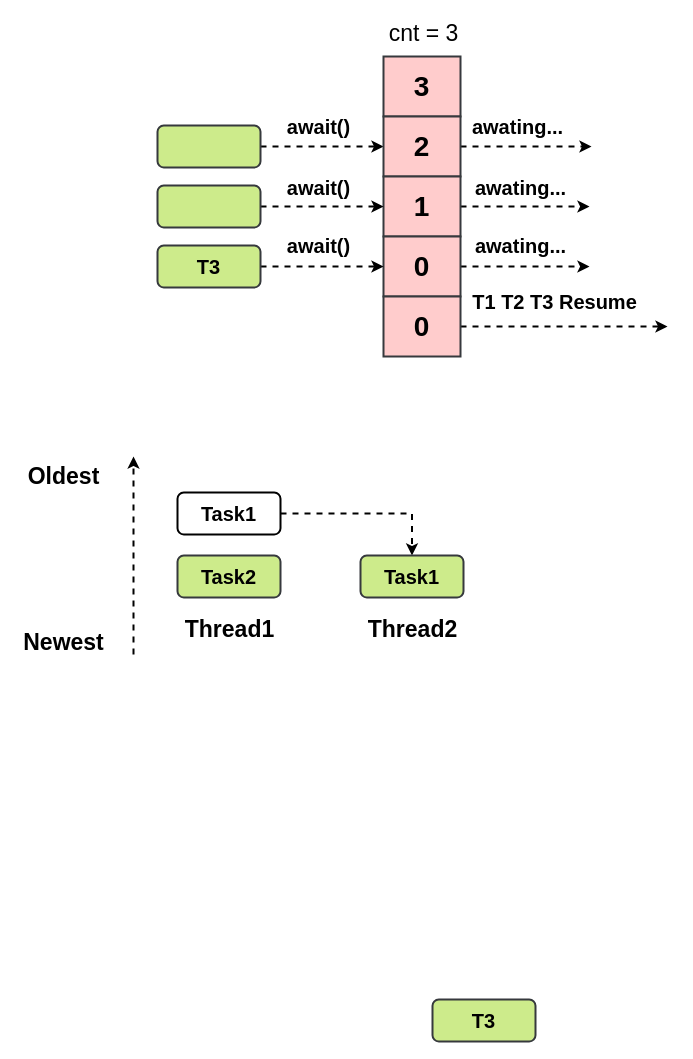
Image size: 693x1059. Some labels were removed from this diagram. Here are the shapes that lost their labels. From the top down, the centre of each, then its label:
At (208,146): "T1".
At (208,206): "T2".
